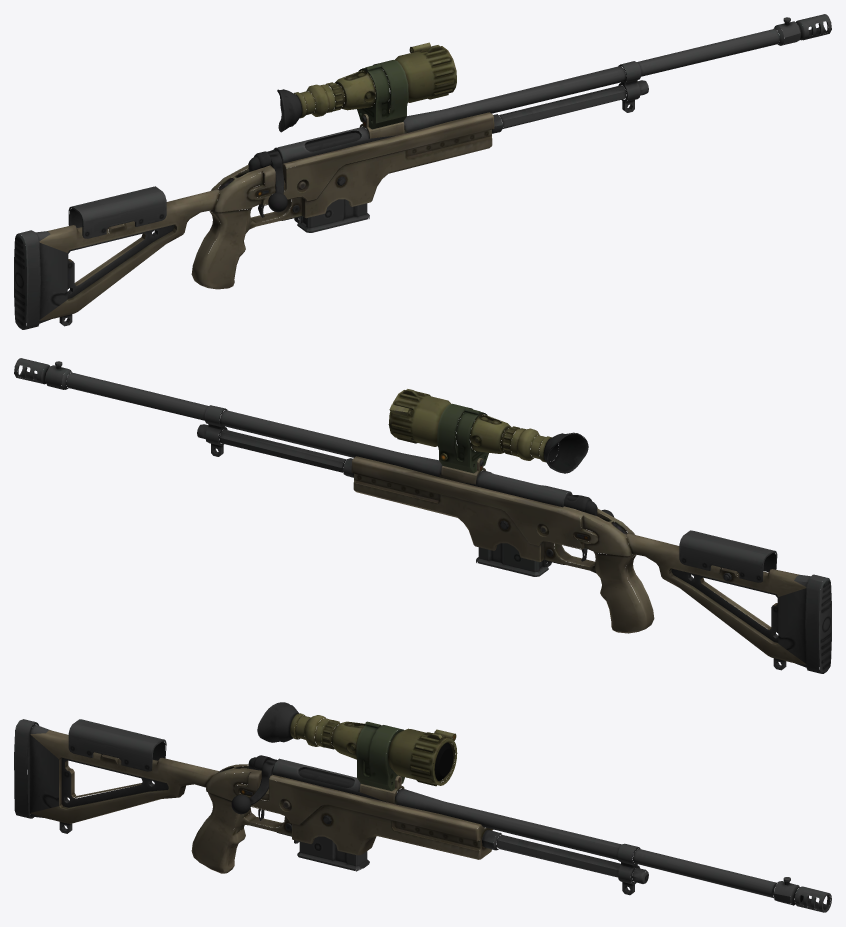
The model's file is sniper_high.glb.
The picture shows the model from 3 angles, top to bottom: view 1: azimuth 30°, elevation 25°; view 2: azimuth 150°, elevation 25°; view 3: azimuth 330°, elevation 25°; orthographic projection.
Visible parts, largest first — view 1: body, bolt, mag; view 2: body, mag; view 3: body, bolt, mag.
Boxes of the visible parts, x1=… form: body: x1=14, y1=14, x2=831, y2=329; bolt: x1=248, y1=132, x2=369, y2=212; mag: x1=297, y1=198, x2=369, y2=232; body: x1=14, y1=358, x2=831, y2=673; mag: x1=476, y1=542, x2=548, y2=576; body: x1=14, y1=702, x2=831, y2=912; bolt: x1=231, y1=755, x2=354, y2=814; mag: x1=297, y1=809, x2=369, y2=871.
Size of the model in its own units: 1.15 by 0.2565 by 0.0932.
1 material, 1 textured.
